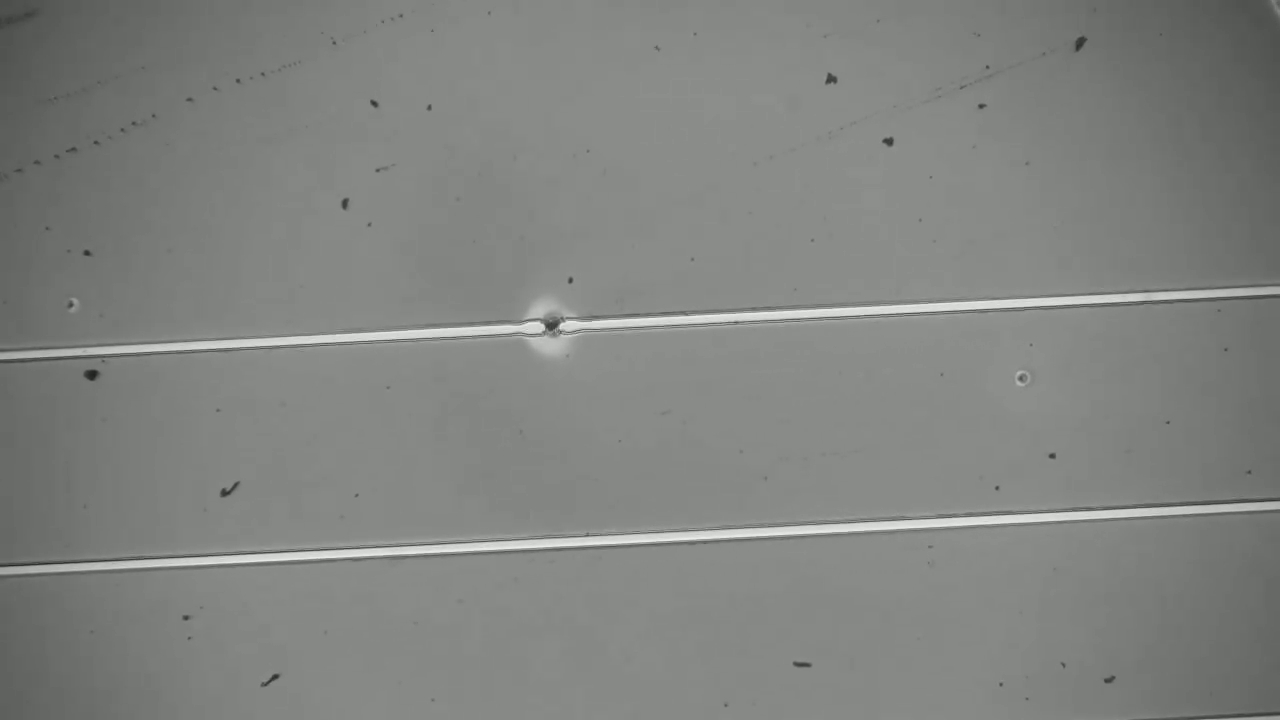stains_enbedded: (529, 305, 578, 348)
